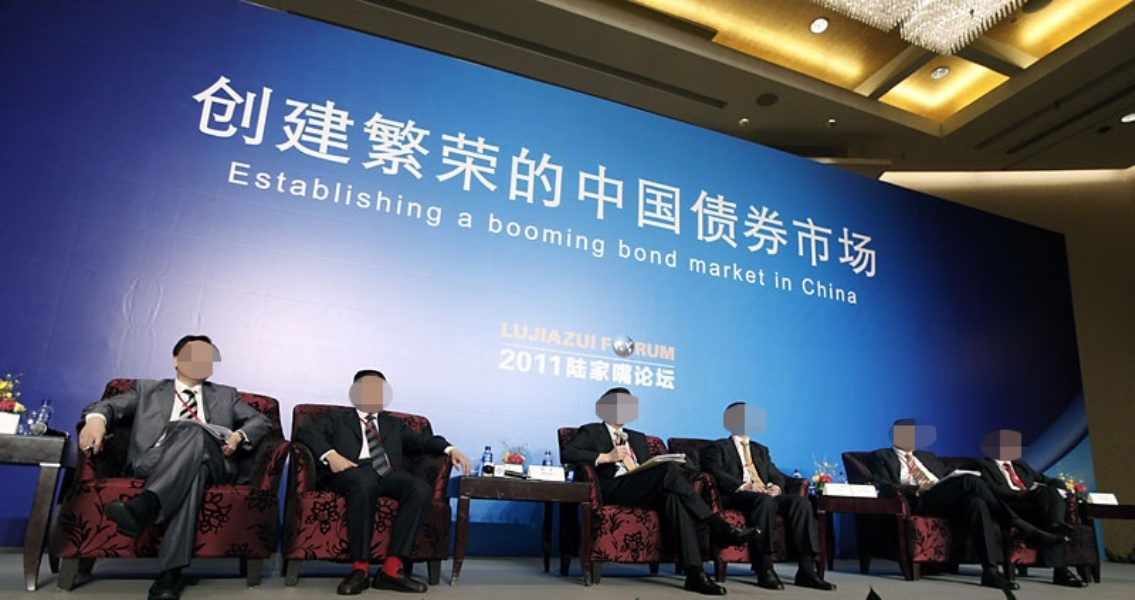text: (209, 69, 224, 281), (225, 69, 240, 281), (241, 69, 256, 281), (257, 69, 272, 281), (273, 69, 288, 281), (289, 69, 304, 281), (305, 69, 320, 281), (321, 69, 336, 281), (337, 69, 352, 281), (353, 69, 368, 281), (369, 69, 384, 281), (385, 69, 400, 281), (401, 69, 416, 281), (417, 69, 432, 281), (433, 69, 448, 281), (449, 69, 464, 281), (465, 69, 480, 281), (481, 69, 496, 281), (497, 69, 512, 281), (513, 69, 528, 281), (529, 69, 544, 281), (545, 69, 560, 281), (561, 69, 576, 281), (577, 69, 592, 281), (593, 69, 608, 281), (609, 69, 624, 281), (625, 69, 640, 281), (641, 69, 656, 281), (657, 69, 672, 281), (673, 69, 688, 281), (689, 69, 704, 281), (705, 69, 720, 281), (721, 69, 736, 281), (737, 69, 752, 281), (753, 69, 768, 281), (769, 69, 784, 281), (785, 69, 800, 281), (801, 69, 816, 281), (817, 69, 832, 281), (833, 69, 848, 281), (849, 69, 864, 281), (865, 69, 877, 281), (199, 69, 208, 281), (241, 158, 256, 230), (257, 158, 272, 230), (273, 158, 288, 230), (289, 158, 304, 230), (305, 158, 320, 230), (321, 158, 336, 230), (337, 158, 352, 230), (353, 158, 368, 230), (369, 158, 384, 230), (385, 158, 400, 230), (401, 158, 416, 230), (417, 158, 432, 230), (433, 158, 447, 230), (593, 210, 609, 261), (497, 210, 512, 261), (513, 210, 528, 261), (529, 210, 544, 261), (545, 210, 560, 261), (561, 210, 576, 261), (577, 210, 592, 261), (230, 158, 240, 230), (513, 347, 528, 392), (529, 347, 544, 392), (545, 347, 560, 392), (561, 347, 576, 392), (577, 347, 592, 392), (593, 347, 608, 392), (609, 347, 624, 392), (625, 347, 640, 392), (641, 347, 656, 392), (657, 347, 672, 392), (500, 347, 512, 392), (689, 256, 704, 288), (705, 256, 720, 288), (721, 256, 736, 288), (737, 256, 752, 288), (625, 239, 640, 270), (641, 239, 656, 270), (657, 239, 672, 270), (817, 277, 832, 308), (833, 277, 848, 308), (513, 321, 528, 351), (529, 321, 544, 351), (545, 321, 560, 351), (561, 321, 576, 351), (577, 321, 592, 351), (753, 256, 767, 288), (802, 277, 816, 308), (641, 341, 656, 362), (657, 341, 672, 362), (849, 277, 859, 308), (673, 347, 679, 392), (503, 321, 512, 351), (491, 210, 496, 261), (774, 271, 784, 293), (785, 271, 794, 293), (673, 239, 679, 270), (465, 212, 474, 229), (620, 239, 624, 270), (635, 341, 640, 362), (601, 337, 608, 352), (593, 321, 596, 351), (673, 341, 677, 362), (460, 212, 464, 229), (609, 337, 612, 352)
